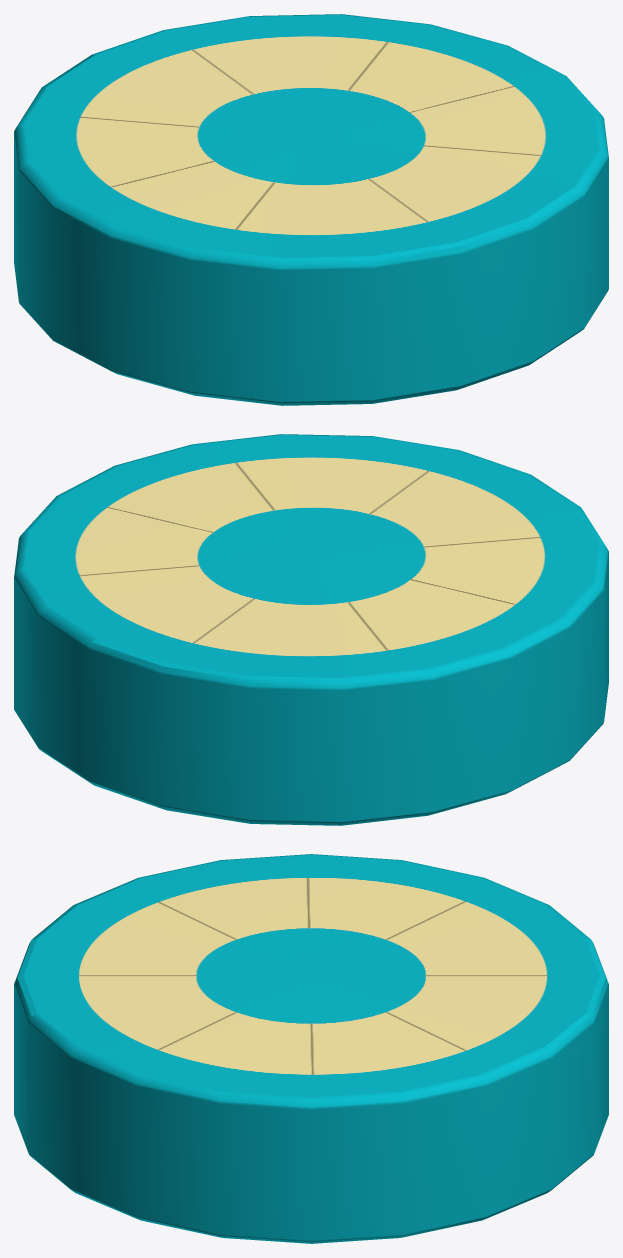
Rendered from SpinningCyl.fbx.
The picture shows the model from 3 angles, top to bottom: view 1: azimuth 30°, elevation 25°; view 2: azimuth 150°, elevation 25°; view 3: azimuth 270°, elevation 25°; orthographic projection.
Parts seen in each view (by area): view 1: pCylinder4; view 2: pCylinder4; view 3: pCylinder4.
Part boxes in pixels (box(x1,y1,x2,y2)): pCylinder4: box(14, 14, 608, 405); pCylinder4: box(14, 434, 608, 825); pCylinder4: box(14, 854, 608, 1243).
Bounding box in the file's own units: 2.01 × 0.5471 × 2.01.
